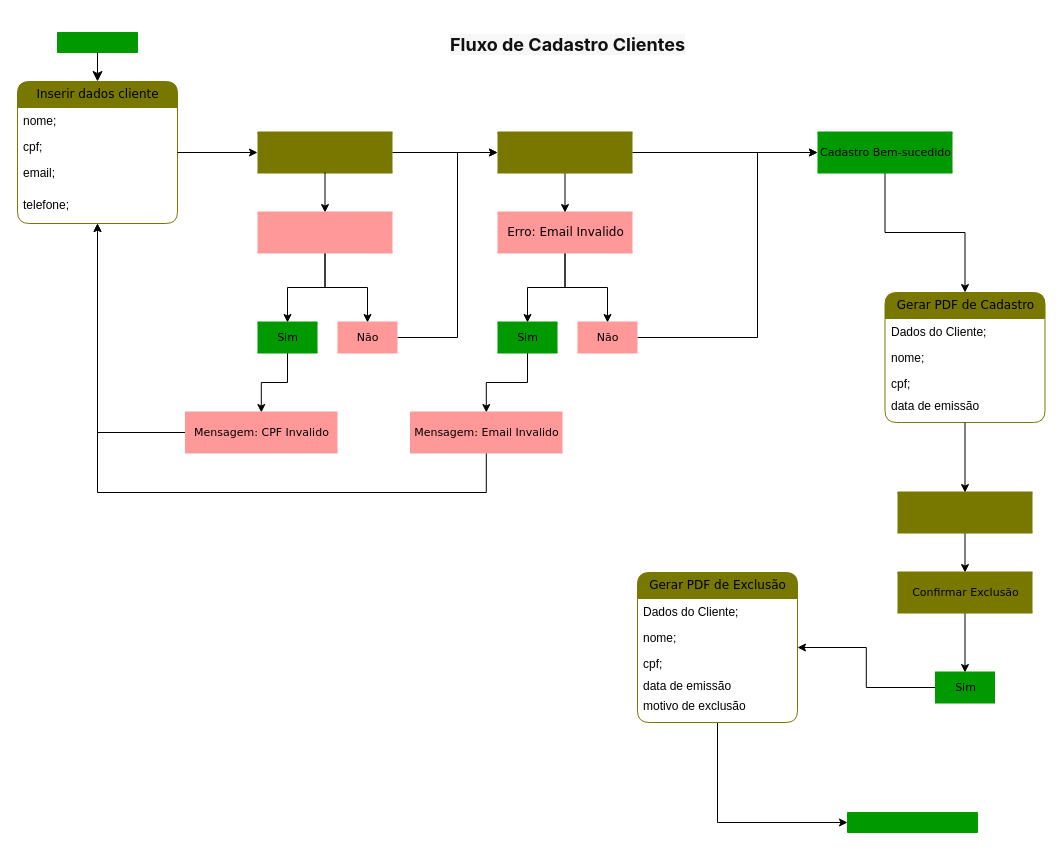
The diagram is 1063 pixels wide and 865 high, and some of its shapes have lost their labels. The centre of each missing label's shape, as x and y in pixels:
Erro: CPF Invalido: the point at 324,232
Exclusão de Cliente?: the point at 964,512
Finalização: the point at 912,822
Inicio: the point at 97,42
Validar CPF?: the point at 324,152
Validar Email: the point at 564,152
